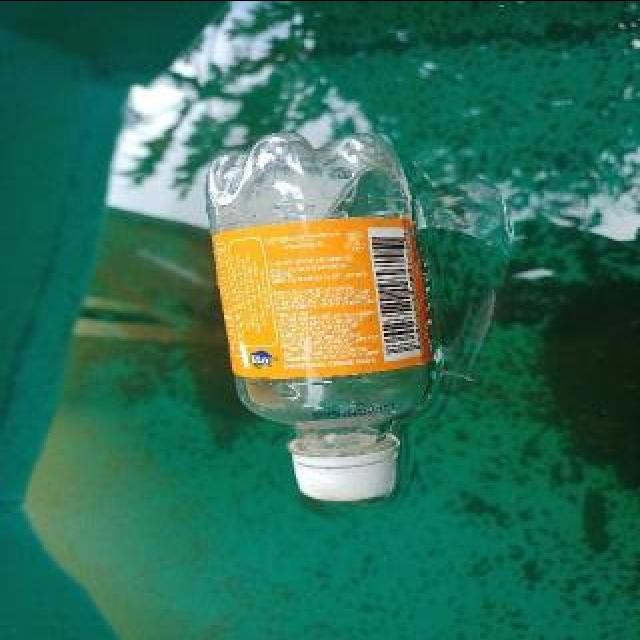Bottle: (202, 134, 439, 504)
